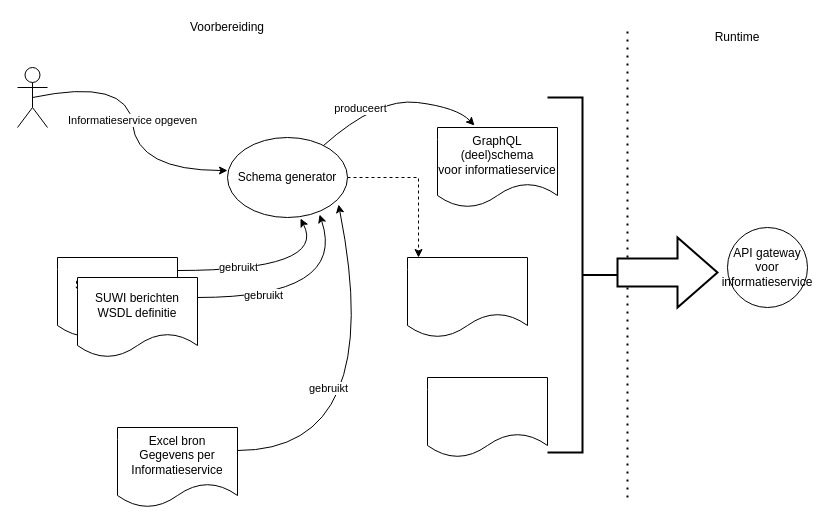
Some shapes in this 830 by 525 pixel diagram are drawn without their labels. The shapes that lost their labels are listed below. From the top down, each one's centre as x and y in pixels, then its label:
pixel 32 97: Actor
pixel 467 297: POJO sources (gegenereerd)
pixel 487 417: Overige sources
